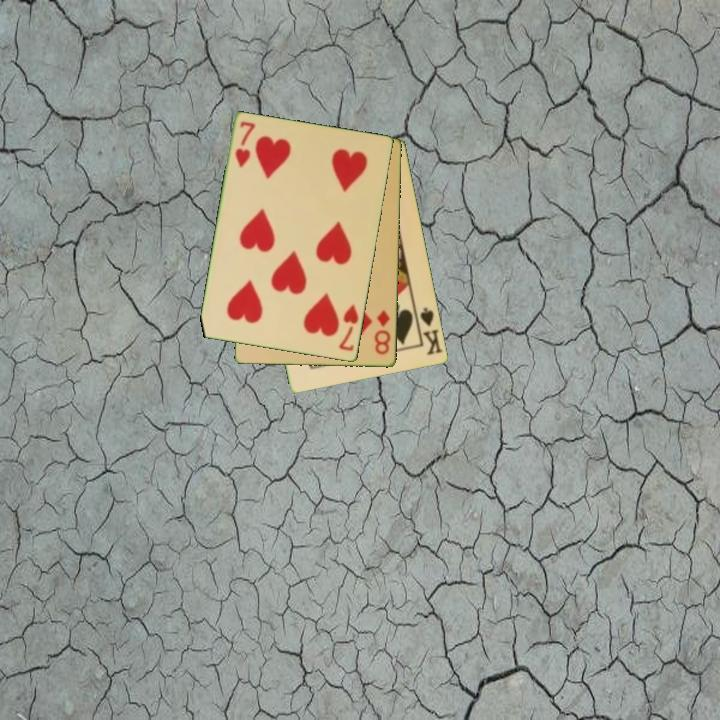7h: (336, 300, 362, 354), (232, 118, 258, 171)
8d: (371, 307, 393, 358)
Ks: (417, 304, 446, 358)
